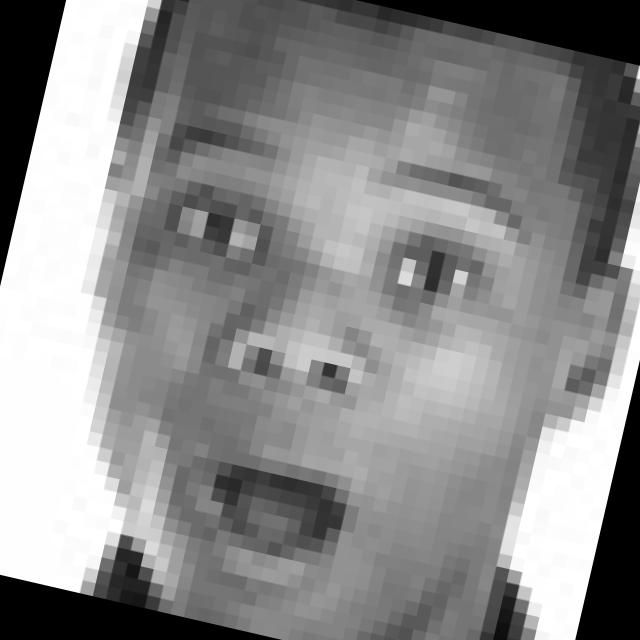surprise: (61, 88, 548, 637)
